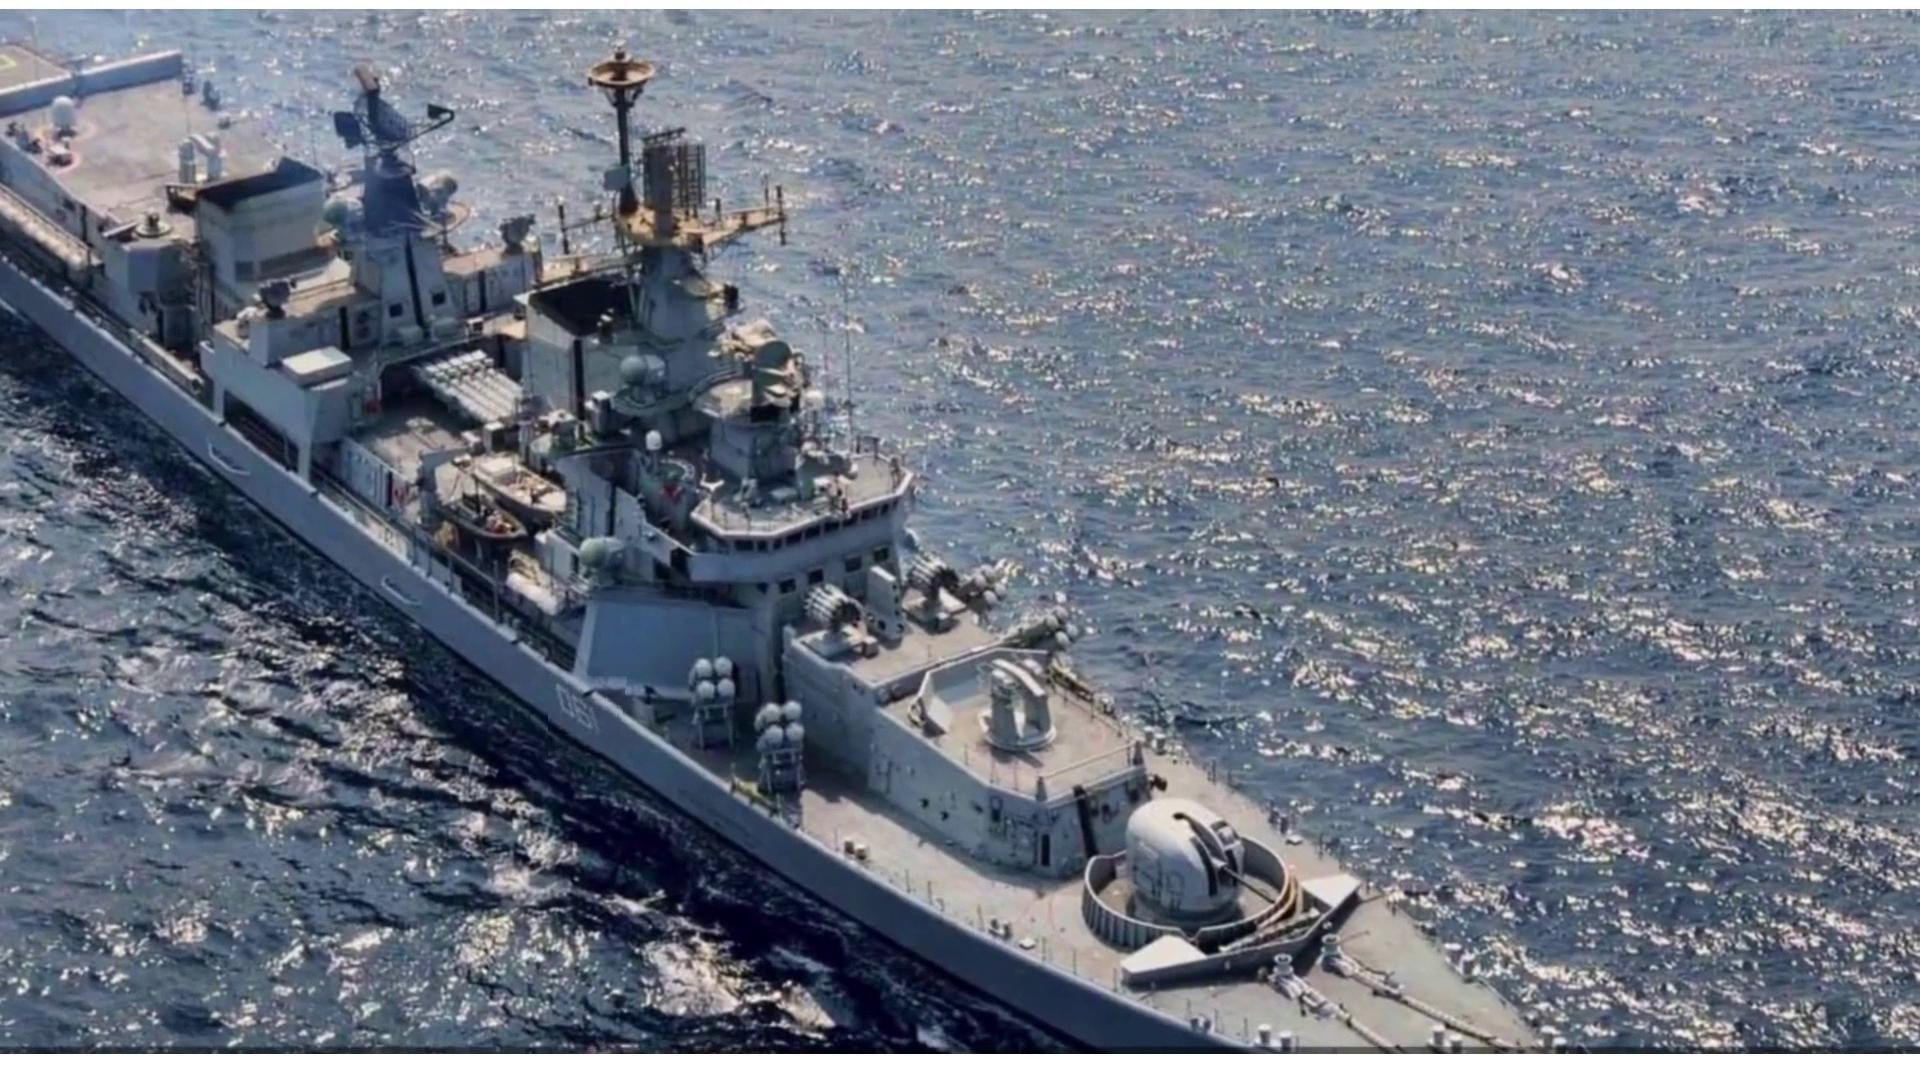OCR: (549, 676, 628, 757)
